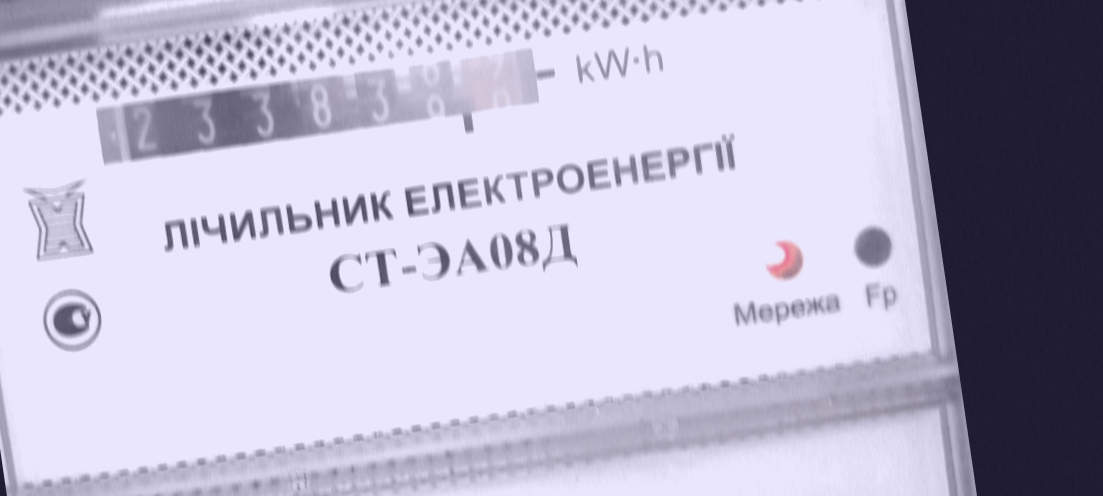0: (485, 84, 514, 112)
2: (125, 102, 159, 154)
3: (186, 95, 219, 148), (246, 88, 278, 141), (361, 73, 393, 125)
8: (303, 81, 334, 130), (414, 59, 445, 89)
9: (418, 89, 449, 122), (480, 49, 508, 80)
screen: (79, 31, 559, 190)
